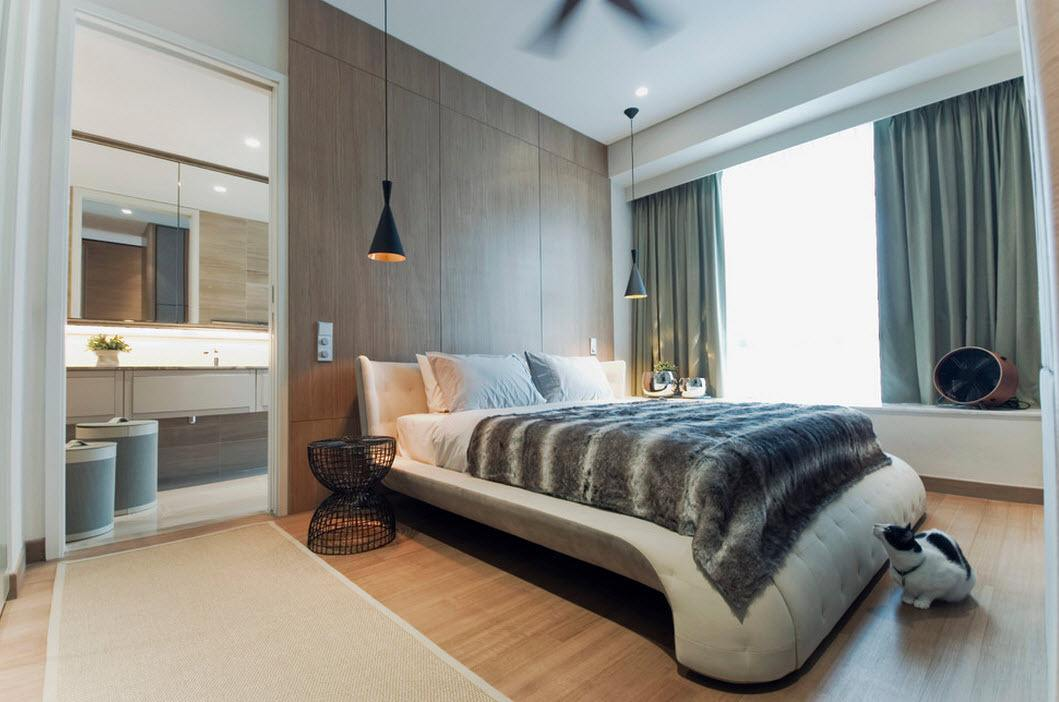床: (391, 398, 919, 677)
枕头: (408, 350, 626, 410)
灯: (372, 3, 409, 270), (617, 106, 651, 306)
